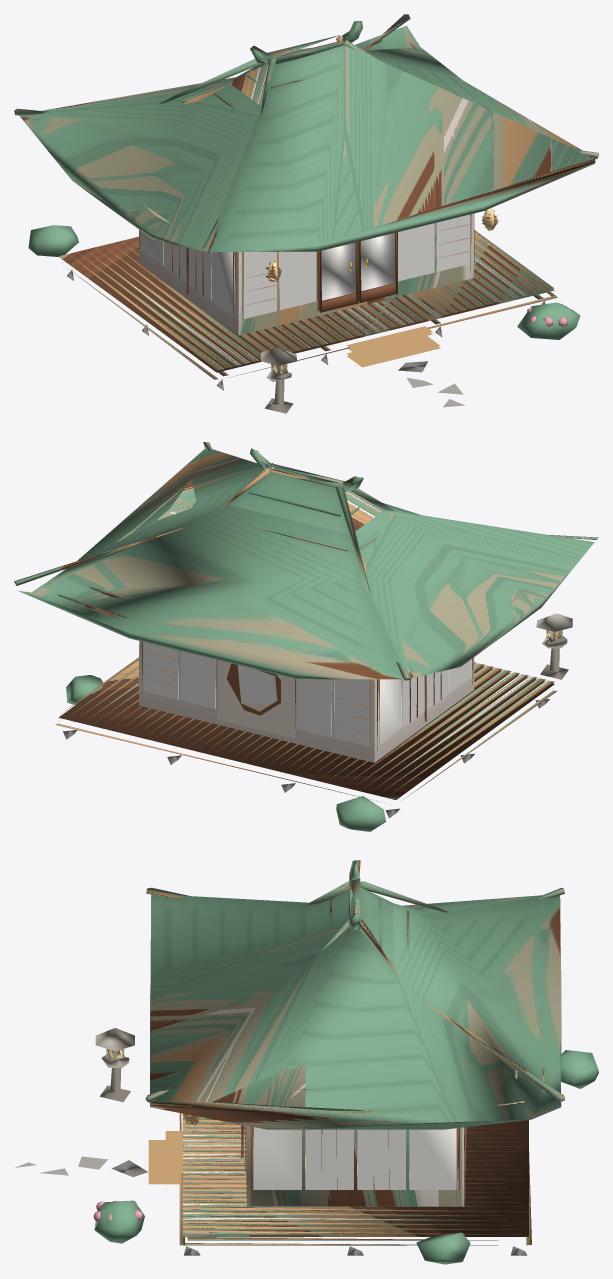
3 renders of one model, top to bottom at view 1: azimuth 30°, elevation 25°; view 2: azimuth 150°, elevation 25°; view 3: azimuth 270°, elevation 25°, orthographic. The views are drawn at different scales.
Visible parts, largest first — view 1: tea-house_body, tea-house_details, tea-house_plants, tea-house_sliding_door_left, tea-house_sliding_door_right, tea-house_garden; view 2: tea-house_body, tea-house_details, tea-house_plants, tea-house_garden; view 3: tea-house_body, tea-house_details, tea-house_plants, tea-house_garden.
Boxes of the visible parts, x1=… form: tea-house_body: x1=14, y1=14, x2=598, y2=379; tea-house_details: x1=66, y1=208, x2=545, y2=390; tea-house_plants: x1=28, y1=225, x2=580, y2=339; tea-house_sliding_door_left: x1=319, y1=242, x2=358, y2=312; tea-house_sliding_door_right: x1=358, y1=232, x2=397, y2=303; tea-house_garden: x1=261, y1=347, x2=464, y2=413; tea-house_body: x1=14, y1=442, x2=598, y2=801; tea-house_details: x1=63, y1=641, x2=549, y2=818; tea-house_plants: x1=66, y1=675, x2=385, y2=831; tea-house_garden: x1=536, y1=613, x2=572, y2=679; tea-house_body: x1=145, y1=860, x2=564, y2=1245; tea-house_details: x1=148, y1=1113, x2=527, y2=1255; tea-house_plants: x1=93, y1=1050, x2=598, y2=1264; tea-house_garden: x1=14, y1=1028, x2=147, y2=1176.
Bounding box in the file's own units: 10.1 × 6.32 × 11.81.
12 materials, 1 textured.
